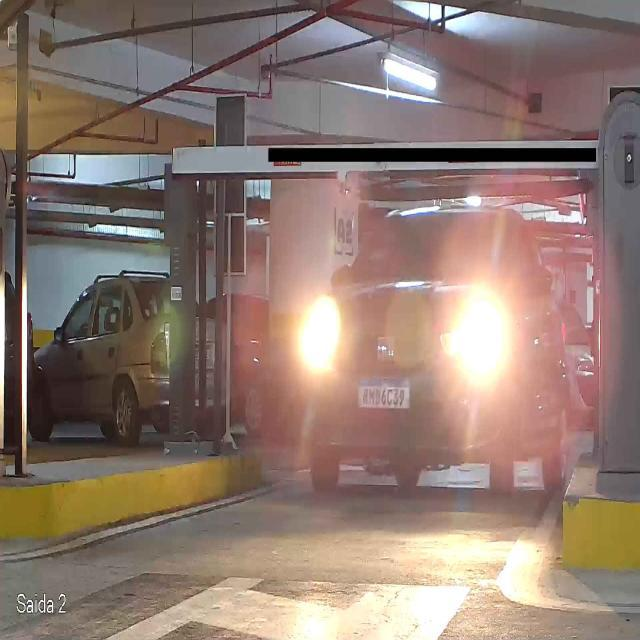mercosul_plate: (356, 374, 413, 410)
